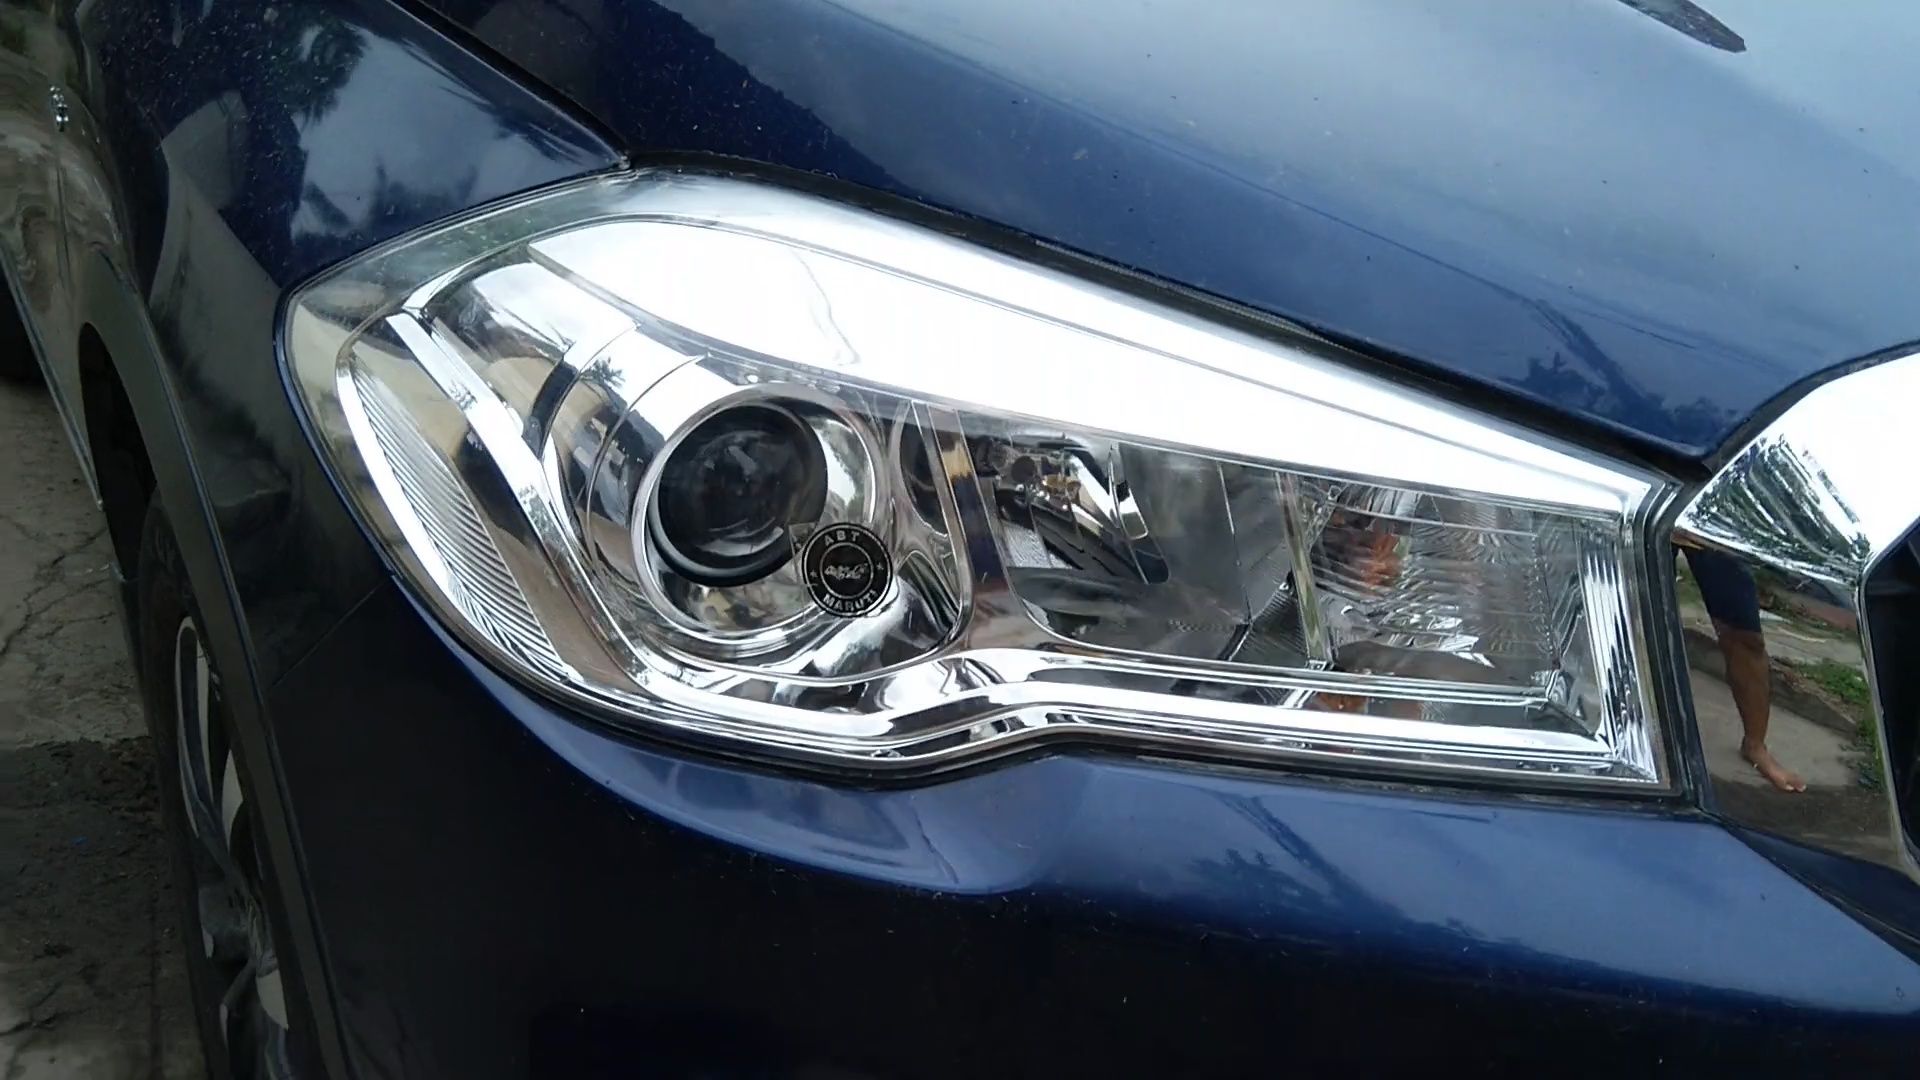headlamp: (239, 132, 1684, 927)
